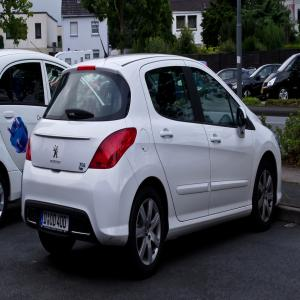Vehicle-registration-plate: (40, 213, 71, 240)
